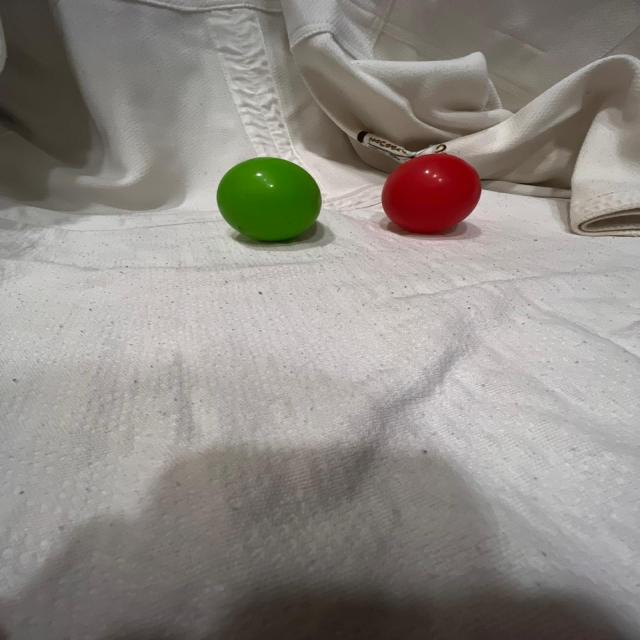ball: (214, 154, 324, 243), (381, 150, 484, 235)
